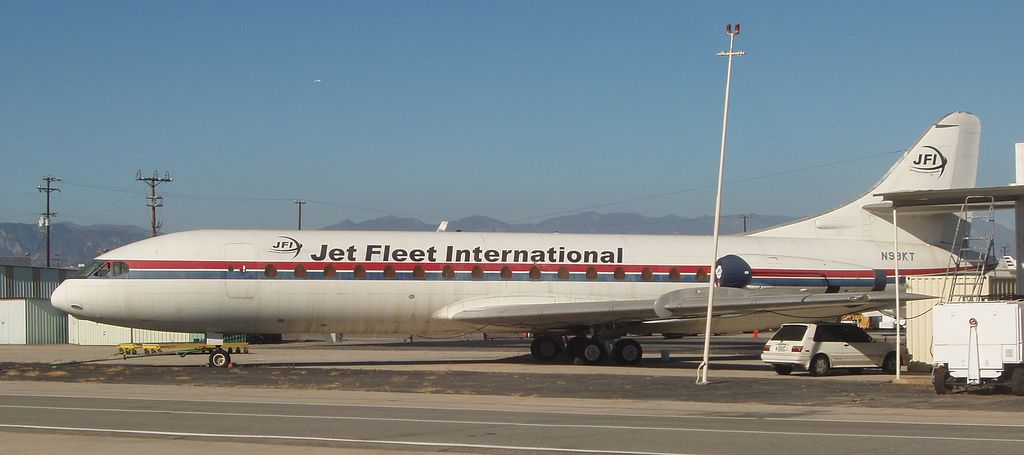Aeronef_commercial: (45, 104, 995, 370)
